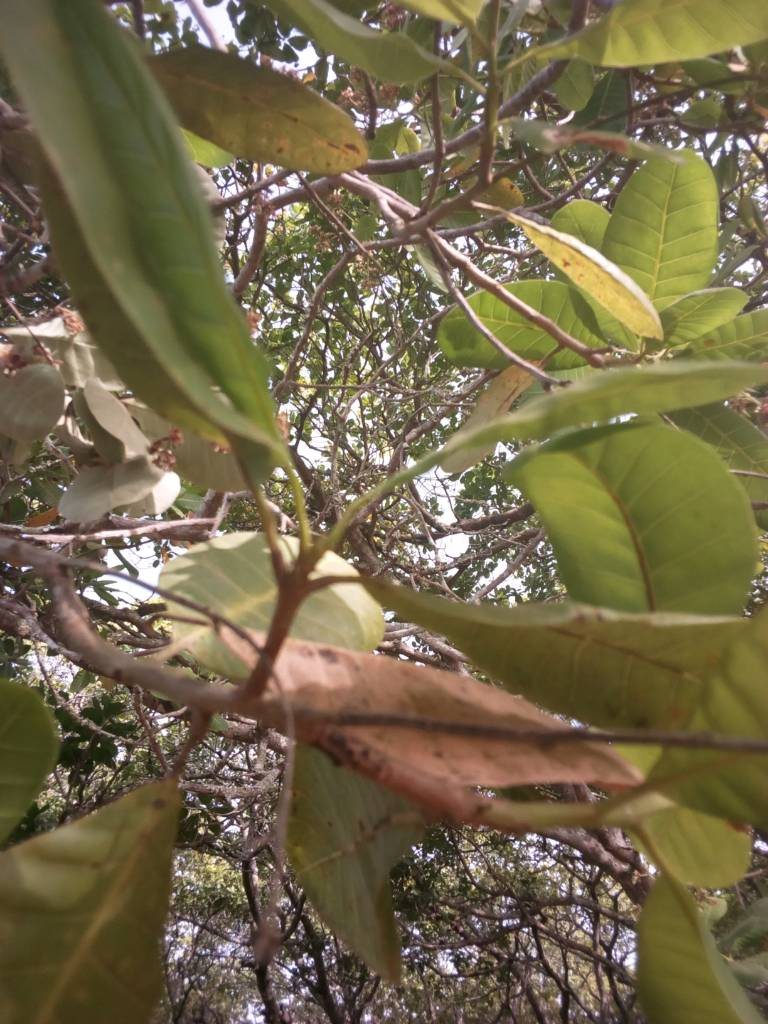Bactériose: (152, 47, 365, 172)
